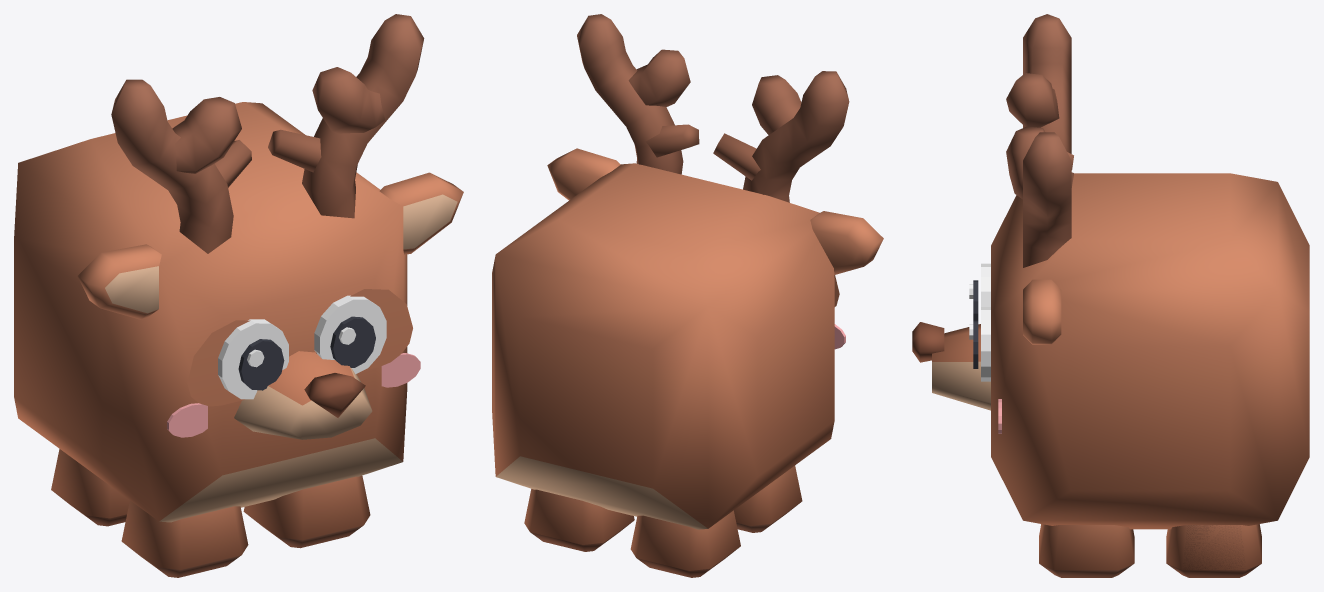
The model's file is deer.glb.
The picture shows the model from 3 angles, left to right: view 1: azimuth 30°, elevation 25°; view 2: azimuth 150°, elevation 25°; view 3: azimuth 270°, elevation 25°; orthographic projection. The views are drawn at different scales.
Parts seen in each view (by area): view 1: body, leg-front-right, leg-front-left, leg-back-right; view 2: body, leg-back-right, leg-back-left, leg-front-right; view 3: body, leg-front-left, leg-back-left.
Boxes of the visible parts, x1,y1,x2,y2 form: body: [14, 14, 463, 522]; leg-front-right: [121, 500, 248, 577]; leg-front-left: [243, 475, 370, 548]; leg-back-right: [51, 449, 129, 526]; body: [492, 14, 883, 529]; leg-back-right: [630, 510, 740, 577]; leg-back-left: [524, 489, 634, 551]; leg-front-right: [734, 465, 802, 532]; body: [912, 14, 1309, 529]; leg-front-left: [1039, 524, 1134, 577]; leg-back-left: [1166, 524, 1261, 577].
Size of the model in its own units: 1.54 by 1.99 by 1.56.
1 material, 1 textured.
